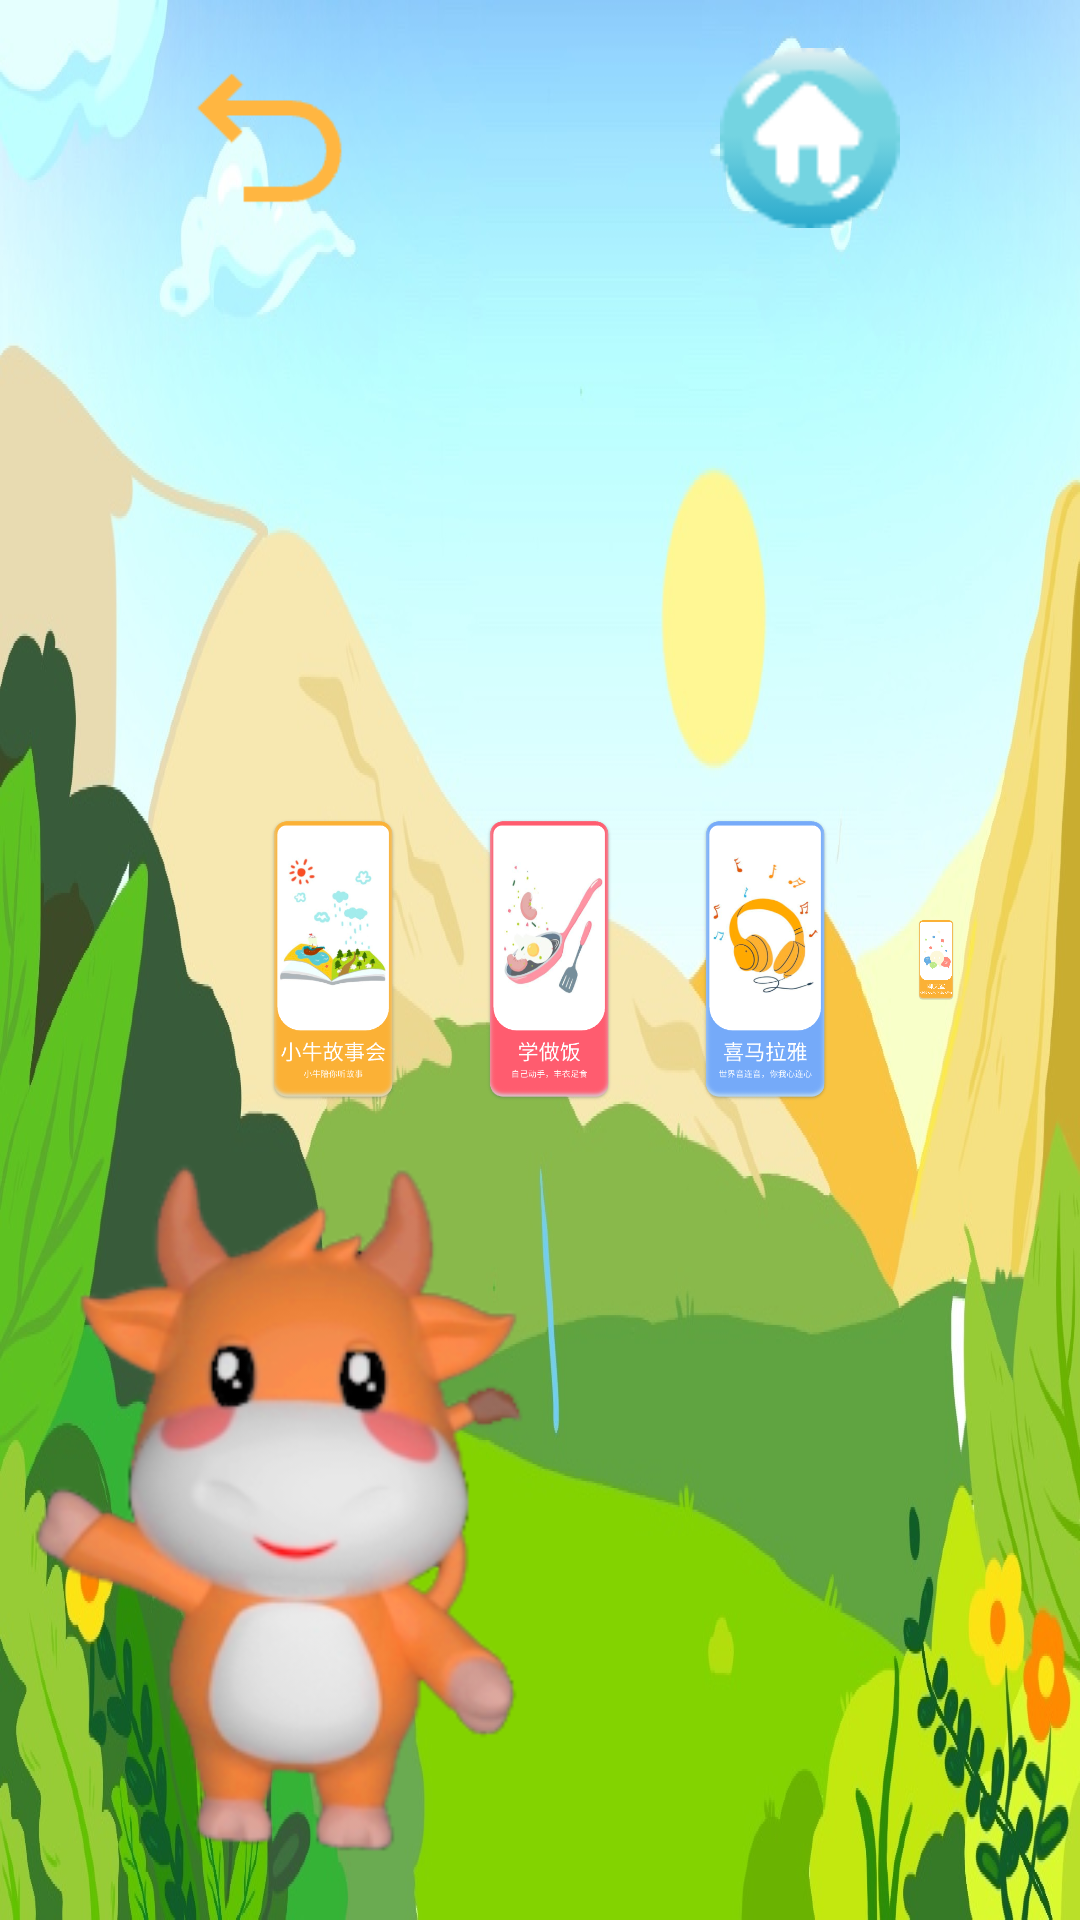

Icons on this 1080px x 1920px Android screen, each with the point to tap as (x=x, y=y):
back: (x=270, y=138)
home: (x=810, y=138)
